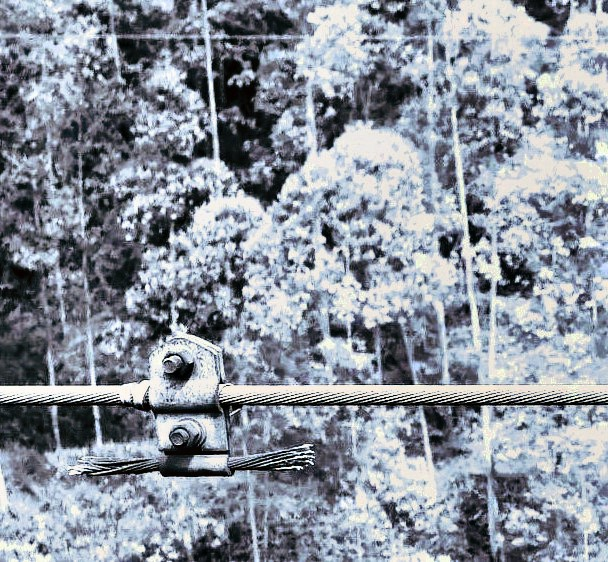Damage of shockproof hammer: (60, 316, 323, 493)
